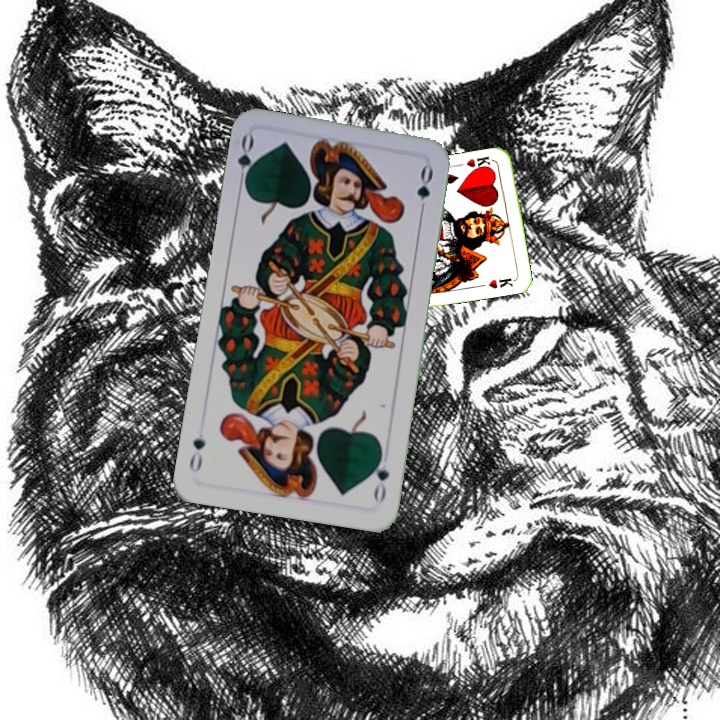GO: (233, 131, 258, 191), (369, 447, 392, 506)
HK: (462, 152, 496, 174)
